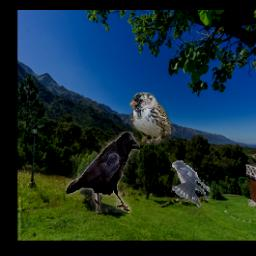Crow: (67, 132, 141, 213)
Sparrow: (130, 93, 172, 146)
Swallow: (171, 161, 211, 209)
